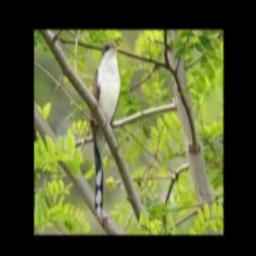Cuckoo: (91, 42, 121, 218)
